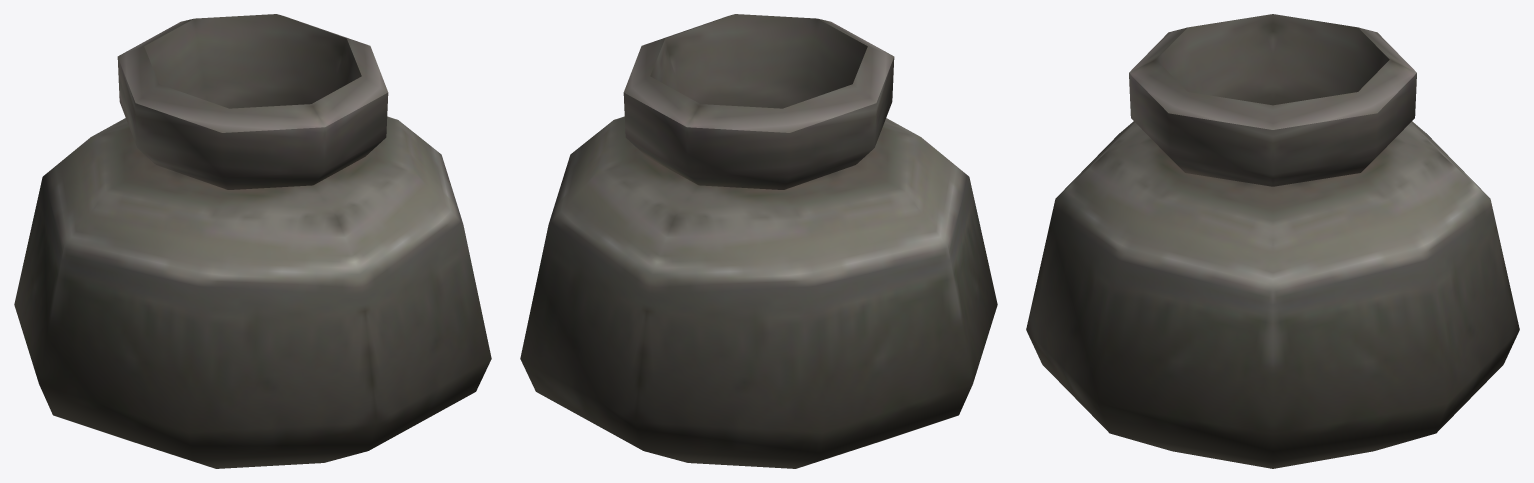
The model's file is e_asset_inkwell.fbx.
3 views of the same model, side by side, from view 1: azimuth 30°, elevation 25°; view 2: azimuth 150°, elevation 25°; view 3: azimuth 270°, elevation 25° (orthographic).
Parts seen in each view (by area): view 1: polySurface942; view 2: polySurface942; view 3: polySurface942.
Boxes of the visible parts, <box> form: polySurface942: <box>14,14,491,468</box>; polySurface942: <box>520,14,997,468</box>; polySurface942: <box>1026,14,1519,468</box>.
Size of the model in its own units: 0.1195 by 0.0933 by 0.1195.
